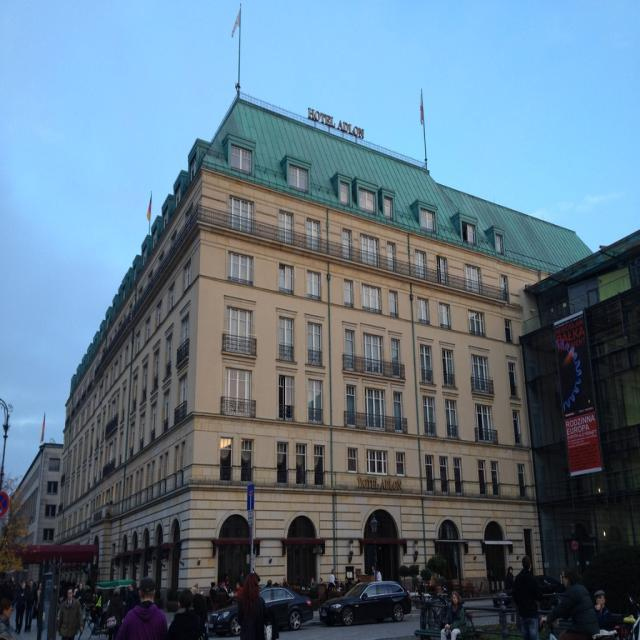car: (318, 579, 411, 627)
